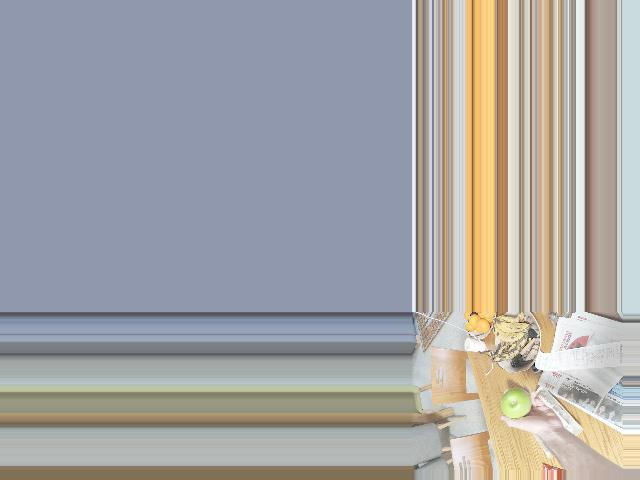apple: (493, 389, 537, 417)
